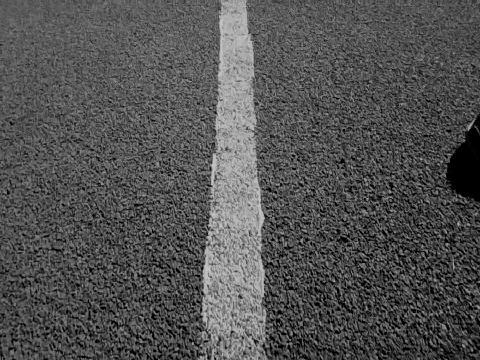Lines: (198, 0, 268, 360)
